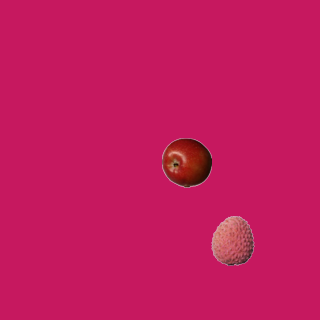Apple Braeburn: (161, 137, 211, 187)
Lychee: (207, 215, 257, 265)
